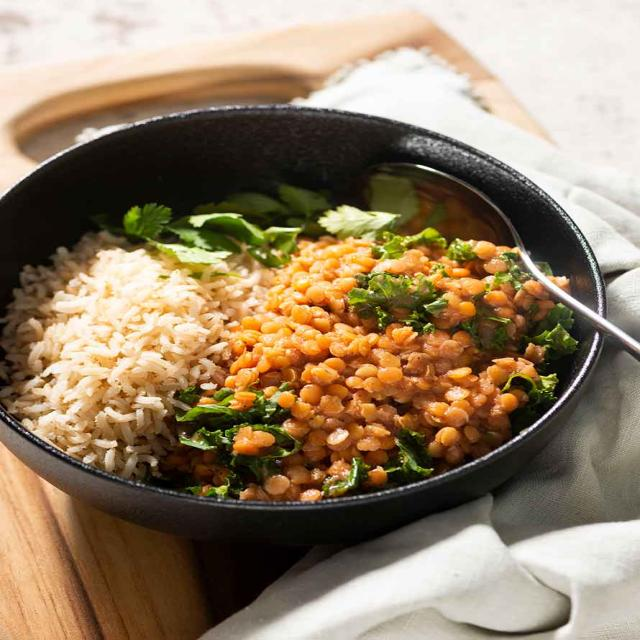arroz: (17, 245, 187, 452)
garbanzos: (246, 261, 490, 456)
